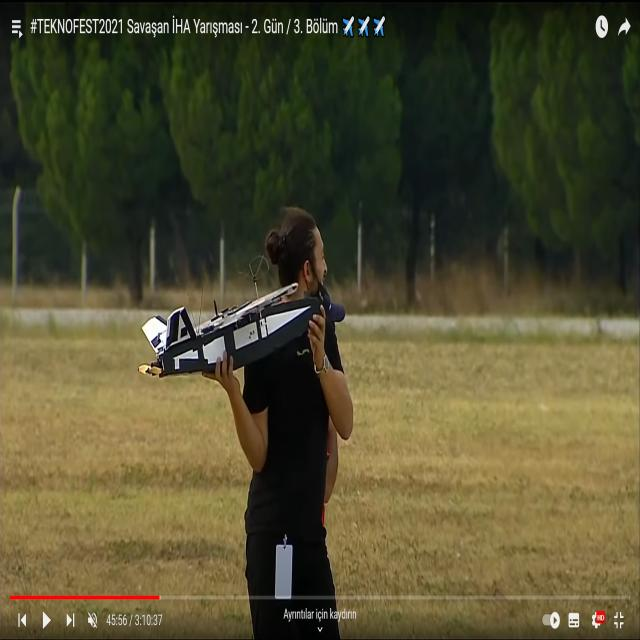iha: (138, 301, 321, 340)
